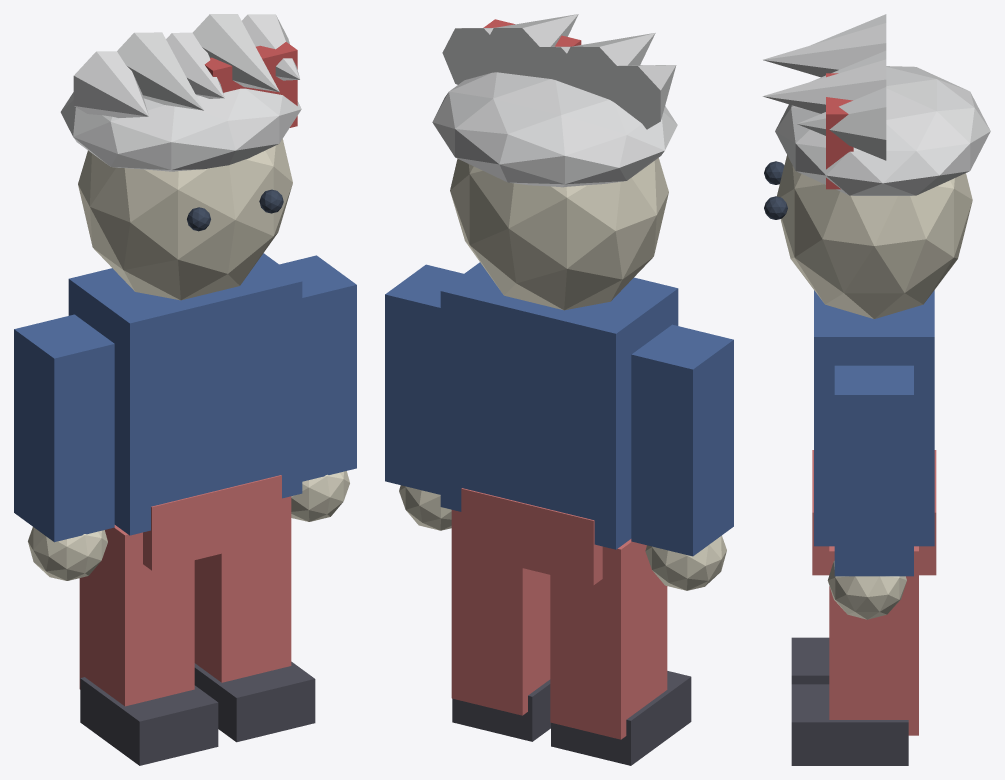
Rendered from todoroki.glb.
The picture shows the model from 3 angles, left to right: view 1: azimuth 30°, elevation 25°; view 2: azimuth 150°, elevation 25°; view 3: azimuth 270°, elevation 25°; orthographic projection. The views are drawn at different scales.
Visible parts, largest first — view 1: part_000, part_010, part_002, part_004, part_013, part_008, part_006, part_001, part_005, part_009, part_014, part_015 (+6 smaller); view 2: part_000, part_010, part_002, part_013, part_004, part_008, part_006, part_001, part_005, part_015, part_014, part_017 (+5 smaller); view 3: part_010, part_006, part_013, part_000, part_008, part_009, part_015, part_018, part_017, part_007, part_005, part_001 (+2 smaller).
Part boxes in pixels (x1,y1,x2,y2): part_000: [68, 253, 302, 535]; part_010: [78, 139, 292, 300]; part_002: [14, 314, 114, 542]; part_004: [79, 525, 194, 706]; part_013: [60, 88, 301, 171]; part_008: [194, 496, 291, 682]; part_006: [279, 255, 356, 481]; part_001: [143, 475, 281, 570]; part_005: [80, 677, 218, 765]; part_009: [194, 661, 315, 742]; part_014: [73, 51, 148, 117]; part_015: [117, 32, 203, 110]; part_000: [440, 262, 678, 549]; part_010: [450, 158, 668, 310]; part_002: [631, 324, 733, 556]; part_013: [432, 72, 677, 187]; part_004: [550, 539, 667, 739]; part_008: [451, 510, 550, 715]; part_006: [385, 264, 463, 494]; part_001: [461, 488, 602, 585]; part_005: [551, 671, 691, 765]; part_015: [558, 33, 655, 103]; part_014: [596, 65, 676, 129]; part_017: [481, 14, 578, 77]; part_010: [777, 155, 972, 319]; part_006: [834, 365, 913, 576]; part_013: [775, 66, 990, 195]; part_000: [814, 290, 934, 546]; part_008: [829, 546, 918, 735]; part_009: [791, 684, 908, 765]; part_015: [763, 23, 886, 77]; part_018: [797, 87, 886, 160]; part_017: [763, 59, 886, 113]; part_007: [827, 561, 906, 619]; part_005: [791, 637, 829, 684]; part_001: [812, 450, 936, 575].
Bounding box in the file's own units: 1.03 × 2.17 × 0.6628.
